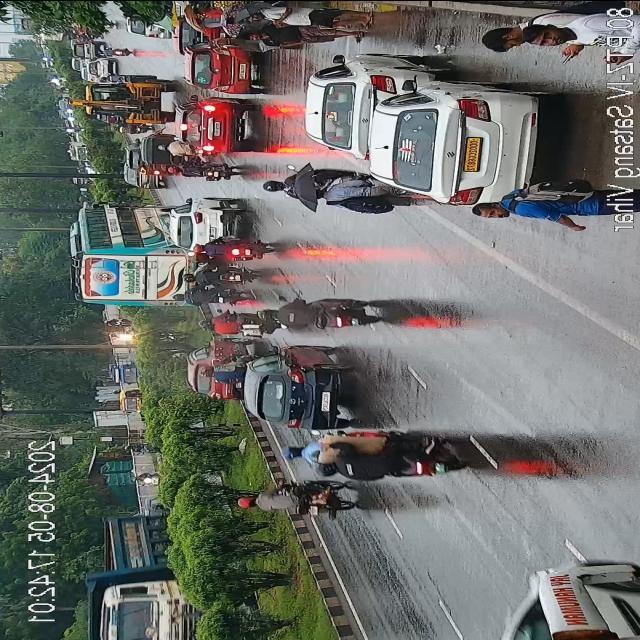2-wheelers: (242, 472, 358, 522), (254, 292, 378, 336), (199, 348, 251, 390), (179, 262, 259, 286), (165, 157, 244, 179), (194, 238, 276, 256), (264, 171, 324, 193), (170, 288, 242, 304), (94, 46, 134, 59), (158, 142, 194, 154)
auto: (241, 339, 351, 433), (282, 429, 464, 482), (136, 134, 174, 164)
bus: (486, 551, 640, 640), (69, 200, 195, 308)
car: (367, 77, 539, 206), (304, 57, 418, 155), (175, 98, 253, 154), (172, 193, 237, 250), (189, 44, 260, 94), (126, 14, 170, 42), (120, 165, 164, 189), (67, 35, 105, 60), (85, 57, 114, 81), (88, 61, 114, 76)
pedestrian: (468, 180, 610, 232), (312, 181, 430, 209), (517, 17, 607, 51), (248, 5, 372, 27), (244, 28, 368, 48), (478, 21, 530, 53), (192, 18, 228, 30), (191, 4, 223, 16)
truck: (89, 510, 185, 640), (64, 75, 176, 125)
